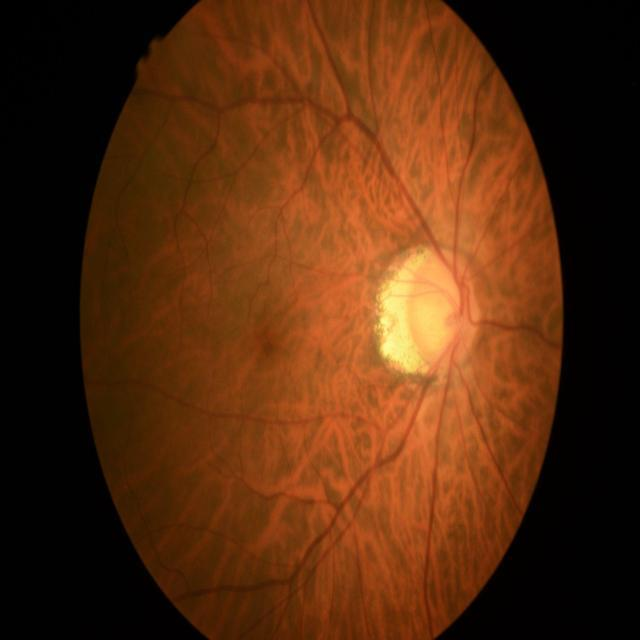cup: (414, 256, 467, 354)
disk: (407, 245, 482, 368)
